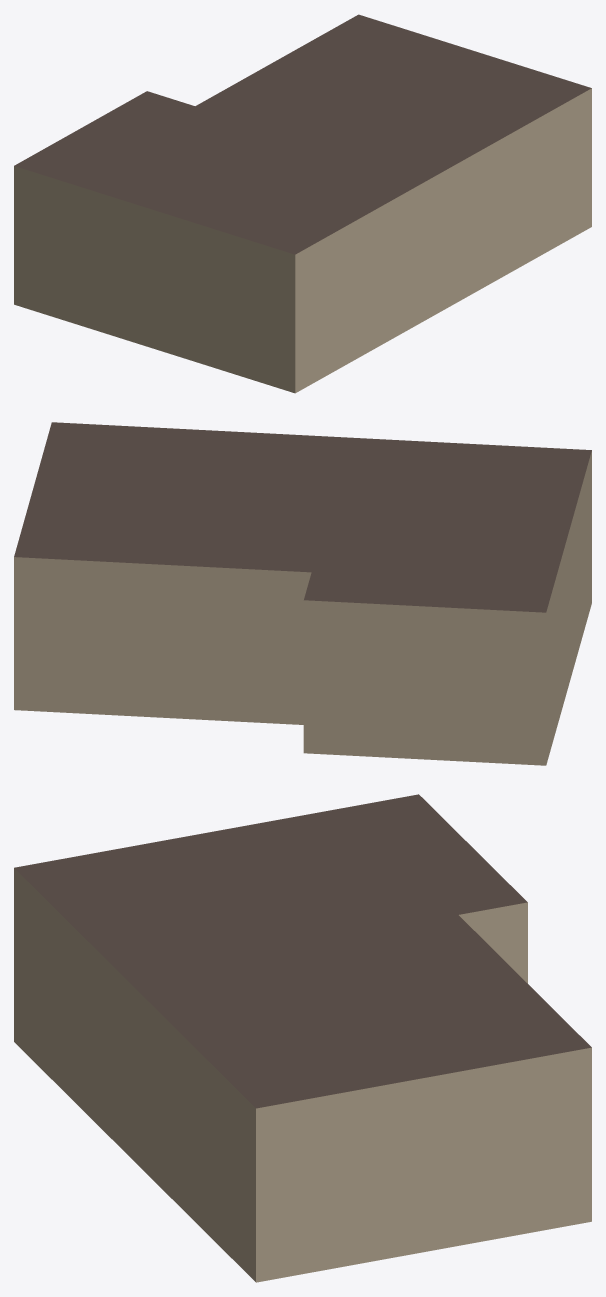
3 views of the same model, one above another, from view 1: azimuth 30°, elevation 25°; view 2: azimuth 150°, elevation 25°; view 3: azimuth 270°, elevation 25° (orthographic). The views are drawn at different scales.
Visible parts, largest first — view 1: HP-w1201242656; view 2: HP-w1201242656; view 3: HP-w1201242656.
Part boxes in pixels (x1,y1,x2,y2): HP-w1201242656: (14, 14, 591, 393); HP-w1201242656: (14, 422, 591, 765); HP-w1201242656: (14, 794, 591, 1282).
Size of the model in its own units: 34.83 by 9 by 27.08.
